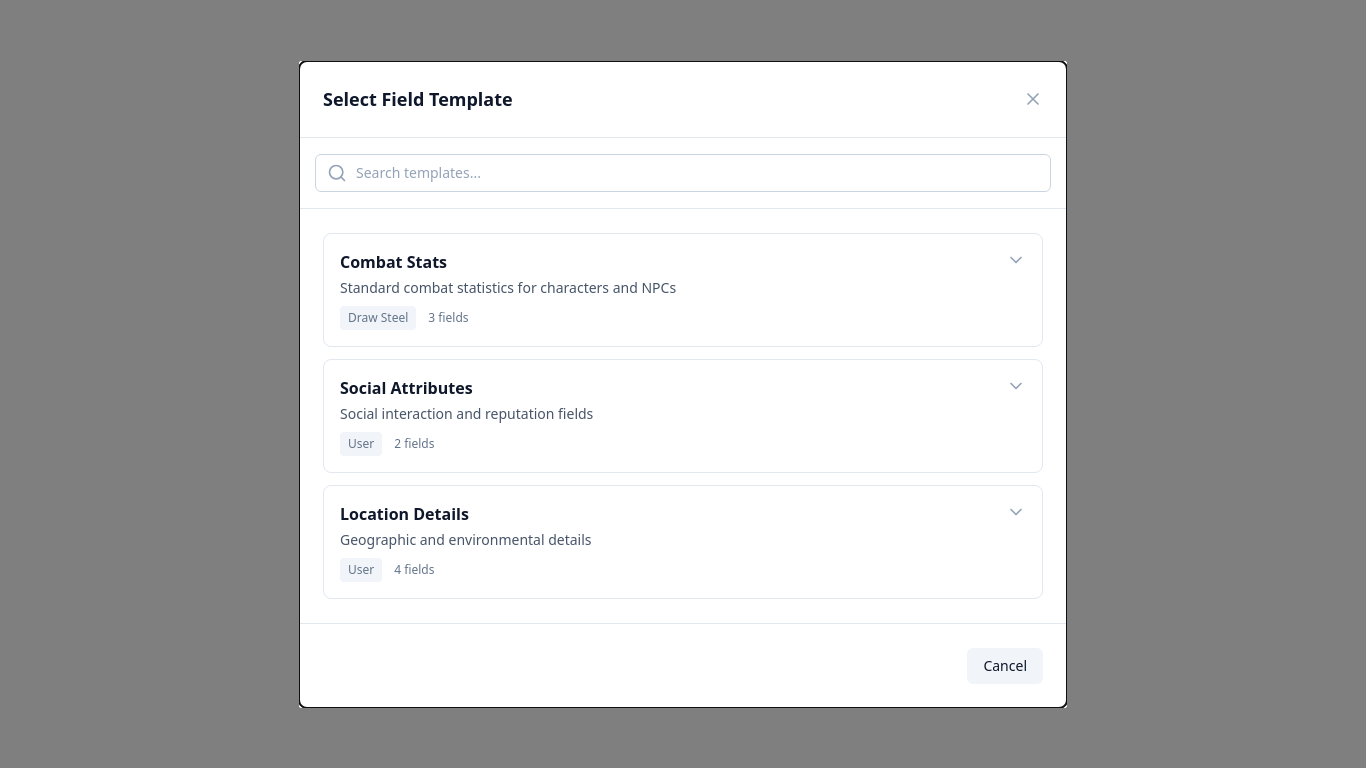
Test: FieldTemplatePicker - Field Preview (Issue #210) › should allow expanding template to preview fields
This screenshot has width=1366, height=768.
Expected: the text "Combat Stats" is shown, left=340, top=250, right=994, bottom=330
What coordinates should you click on to do the following:
click the 1st button named "Show fields preview"
I would click on:
 (1016, 260)
Its box is left=1006, top=250, right=1026, bottom=270.
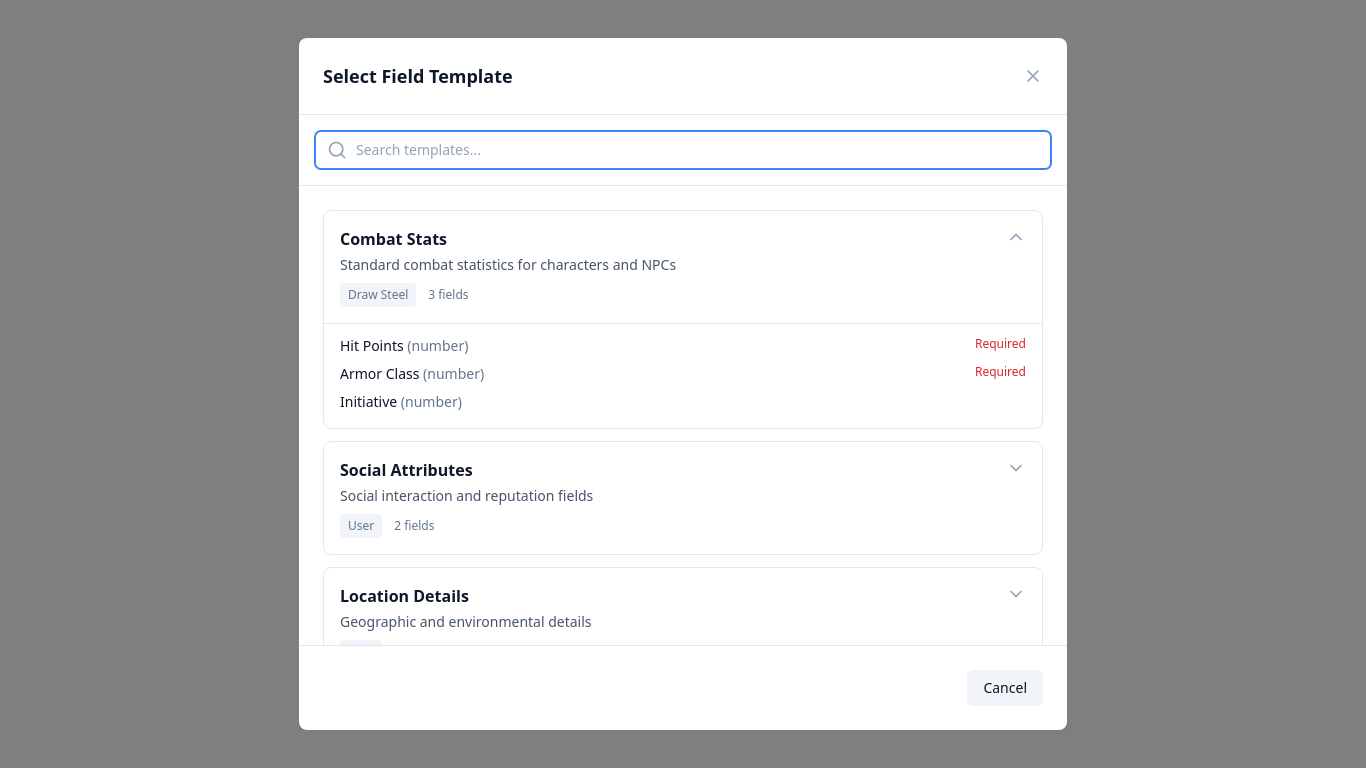
Now the text "Hit Points" is shown, box left=340, top=336, right=404, bottom=355
Now the text "Armor Class" is shown, box left=340, top=364, right=419, bottom=383
Now the text "Initiative" is shown, box left=340, top=392, right=397, bottom=411
